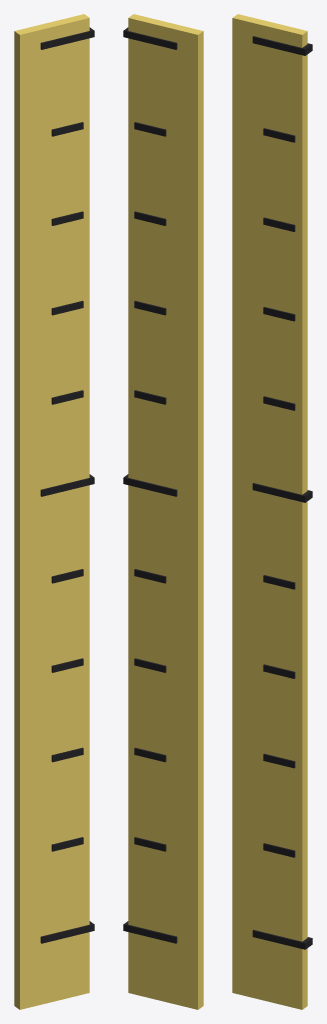
Rendered from w_ruler.glb.
The picture shows the model from 3 angles, left to right: view 1: azimuth 30°, elevation 25°; view 2: azimuth 150°, elevation 25°; view 3: azimuth 330°, elevation 25°; orthographic projection.
Visible parts, largest first — view 1: ruler; view 2: ruler; view 3: ruler.
Part boxes in pixels (box(x1,y1,x2,y2)): ruler: box(14, 14, 94, 1009); ruler: box(123, 14, 203, 1009); ruler: box(232, 14, 312, 1009).
Bounding box in the file's own units: 0.0475 × 0.6 × 0.008.
